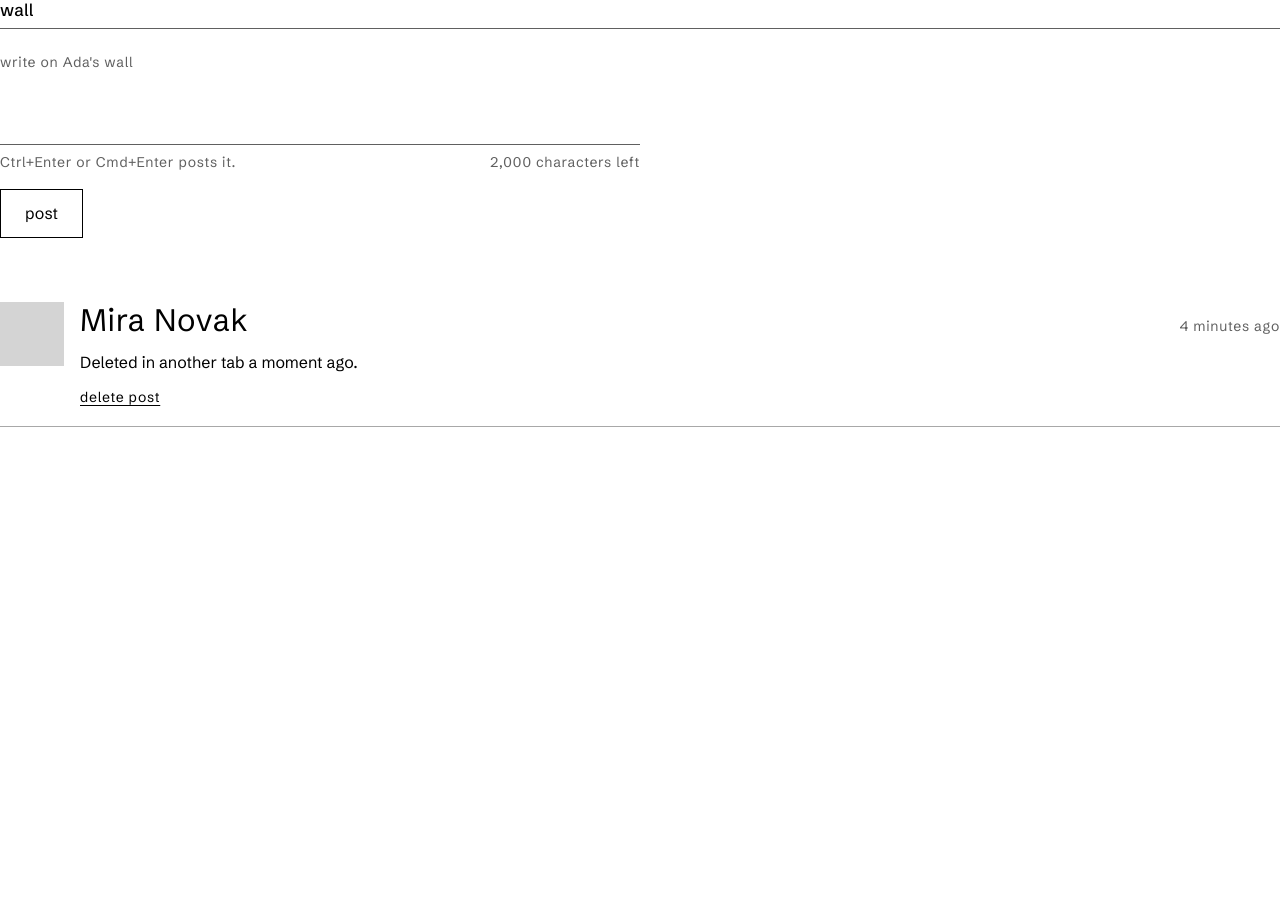
it: Wall › F-71: a post that is already gone (404) leaves the wall without an error
Click the button named "delete post by Mira Novak". click: x=120, y=398
box: top-left (80, 386), bottom-right (160, 410)
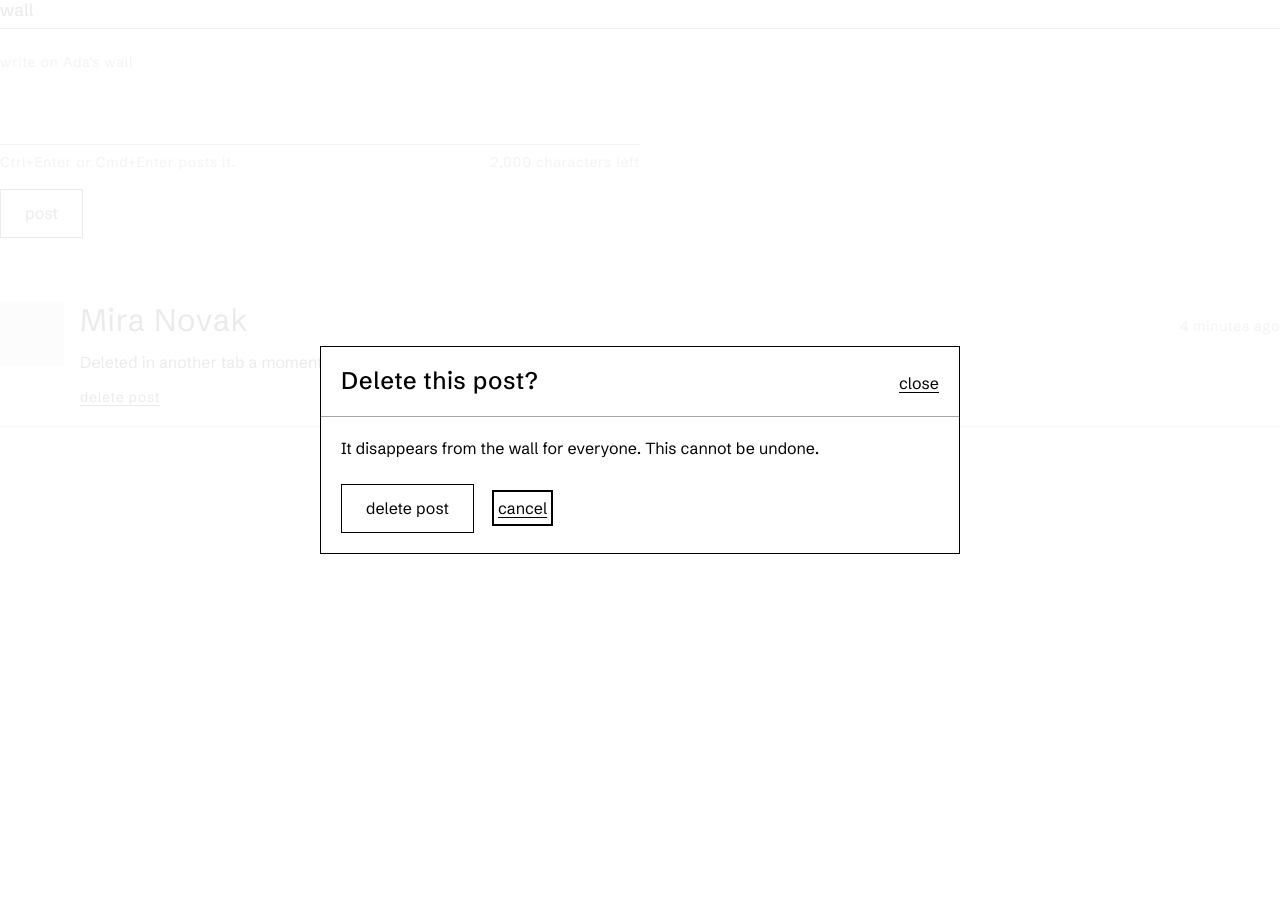
Click the button "delete post". click: x=407, y=508
box: top-left (341, 484), bottom-right (474, 533)
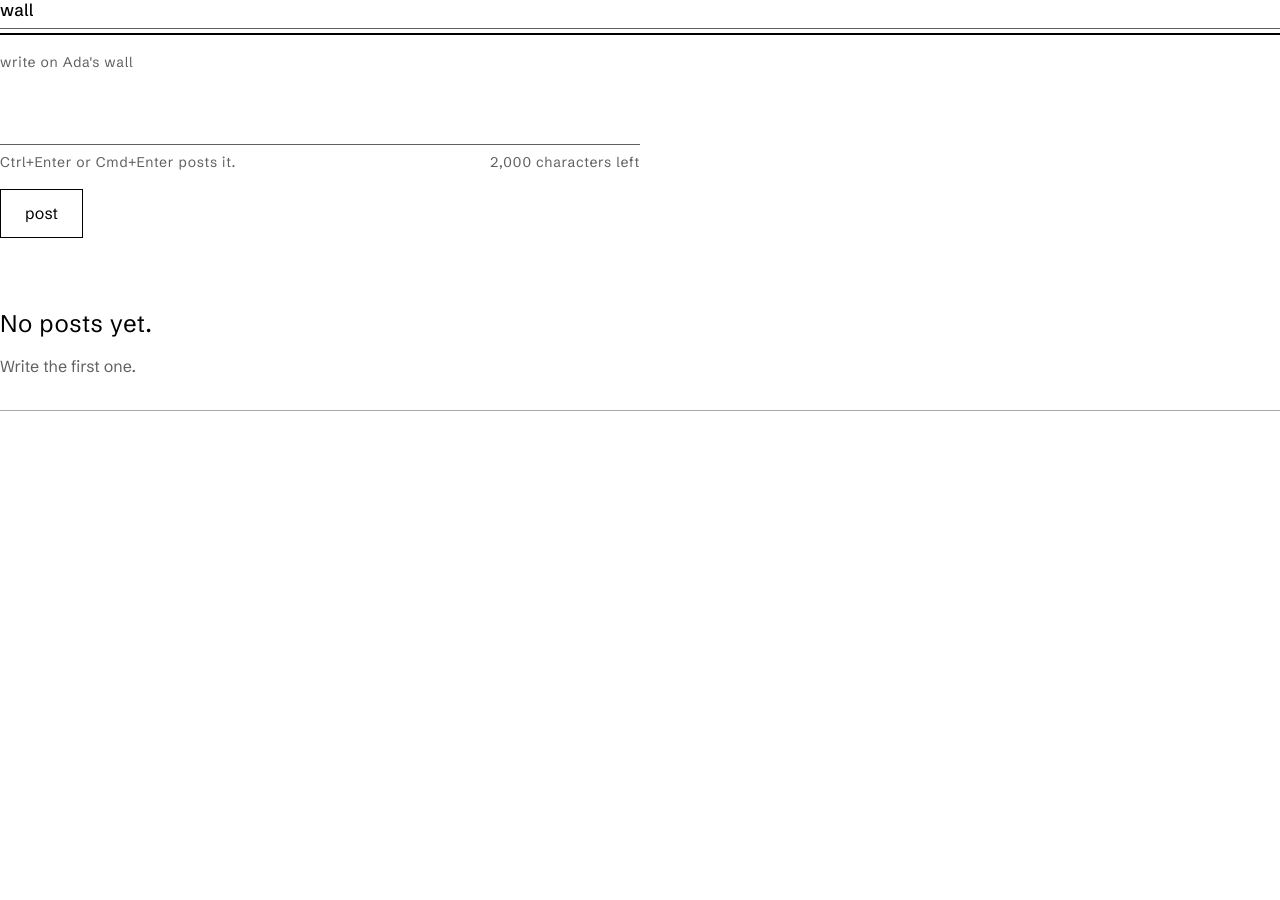
Expected: the text "Deleted in another tab a moment ago." is gone
Expected: the dialog is gone
